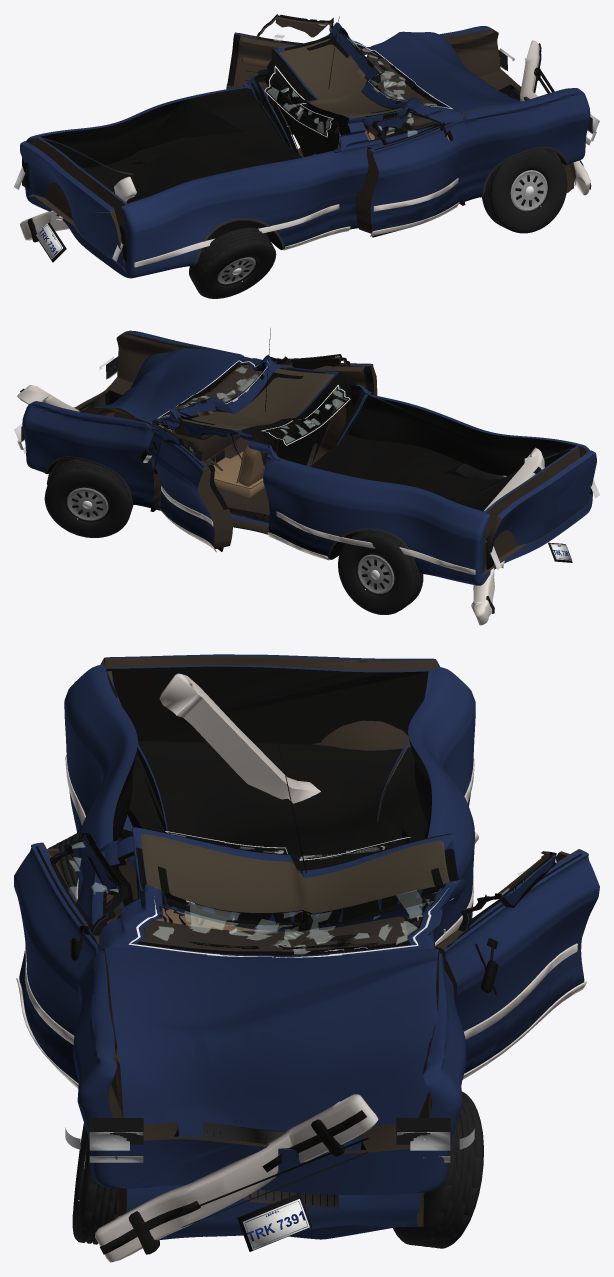
The model's file is pickup87_roll_d2_lod1.glb.
3 views of the same model, one above another, from view 1: azimuth 30°, elevation 25°; view 2: azimuth 150°, elevation 25°; view 3: azimuth 270°, elevation 25° (orthographic). The views are drawn at different scales.
Visible parts, largest first — view 1: Body, Door_FR, Hood, Wheel_FR_mesh, Wheel_RR_mesh, Tailgate, Door_FL, Trim, Glass, Interior, Ends, Trim_FR (+3 smaller); view 2: Body, Door_FL, Hood, Wheel_FL_mesh, Wheel_RL_mesh, Tailgate, Interior, Trim, Glass, Bumper_R, Door_FR, Ends (+3 smaller); view 3: Body, Hood, Door_FL, Door_FR, Bumper_F, Ends, Interior, Glass, Tailgate, Bumper_R, Wheel_FL_mesh, Trim_FL (+5 smaller).
Part boxes in pixels (<box>): Body: <box>25,22,590,278</box>; Door_FR: <box>356,109,463,233</box>; Hood: <box>371,31,575,192</box>; Wheel_FR_mesh: <box>482,149,567,233</box>; Wheel_RR_mesh: <box>189,227,276,298</box>; Tailgate: <box>20,141,124,268</box>; Door_FL: <box>226,14,332,126</box>; Trim: <box>134,16,568,267</box>; Glass: <box>264,31,452,137</box>; Interior: <box>315,55,439,153</box>; Ends: <box>14,48,599,262</box>; Trim_FR: <box>370,111,459,237</box>; Body: <box>22,330,592,585</box>; Door_FL: <box>148,420,232,549</box>; Hood: <box>46,348,243,491</box>; Wheel_FL_mesh: <box>44,459,133,537</box>; Wheel_RL_mesh: <box>338,531,423,614</box>; Tailgate: <box>482,450,596,574</box>; Interior: <box>172,365,264,497</box>; Trim: <box>44,328,511,574</box>; Glass: <box>157,360,350,445</box>; Bumper_R: <box>471,447,544,625</box>; Door_FR: <box>247,355,377,395</box>; Ends: <box>14,356,599,569</box>; Body: <box>64,664,475,1194</box>; Hood: <box>102,947,438,1240</box>; Door_FL: <box>435,849,599,1073</box>; Door_FR: <box>14,832,129,1083</box>; Bumper_F: <box>95,1094,378,1262</box>; Ends: <box>65,1117,474,1251</box>; Interior: <box>140,907,408,951</box>; Glass: <box>128,831,455,957</box>; Tailgate: <box>100,654,439,750</box>; Bumper_R: <box>159,673,479,844</box>; Wheel_FL_mesh: <box>393,1091,483,1248</box>; Trim_FL: <box>443,853,586,1079</box>.
Bounding box in the file's own units: 5.38 × 2.06 × 2.84.
30 materials, 5 textured.
